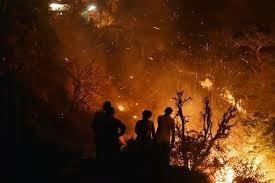fire: (46, 0, 118, 27)
